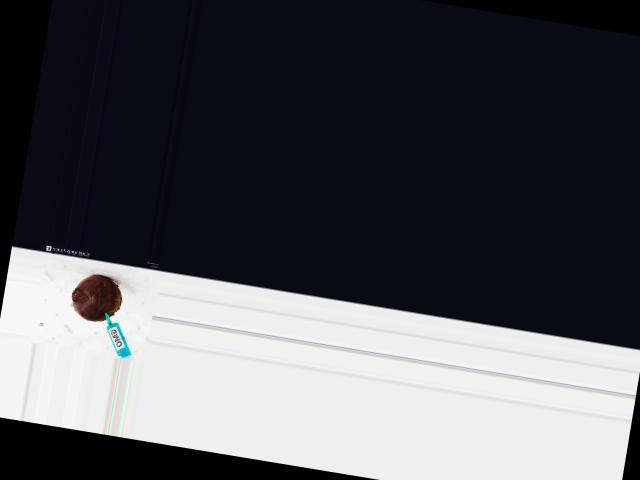beet: (69, 270, 125, 325)
